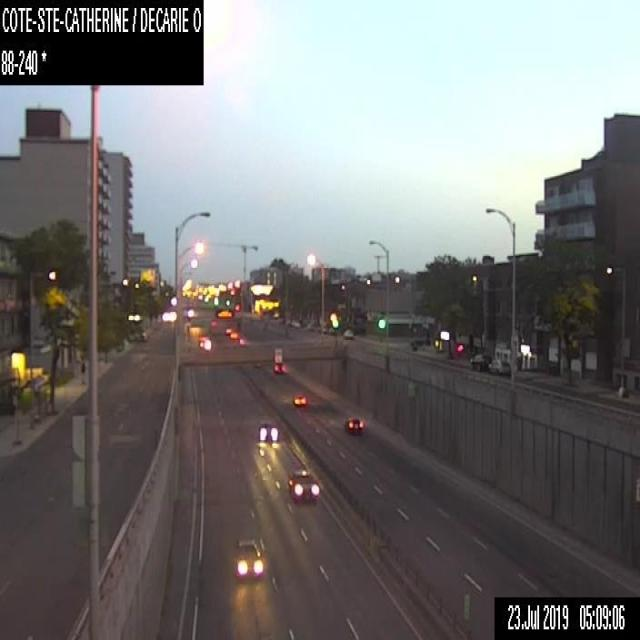vehicle: (233, 537, 263, 580), (288, 470, 320, 501), (258, 424, 280, 441), (469, 354, 489, 369), (489, 358, 510, 372), (344, 417, 362, 432), (272, 361, 285, 373), (198, 336, 210, 348), (292, 394, 304, 404), (343, 329, 353, 338), (228, 332, 237, 337), (238, 338, 246, 342), (225, 328, 231, 332)
